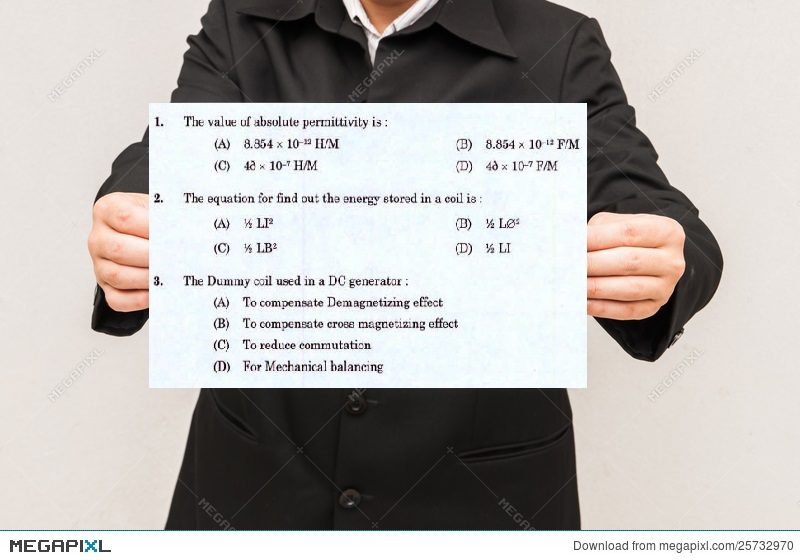questionPaper: (150, 103, 586, 390)
